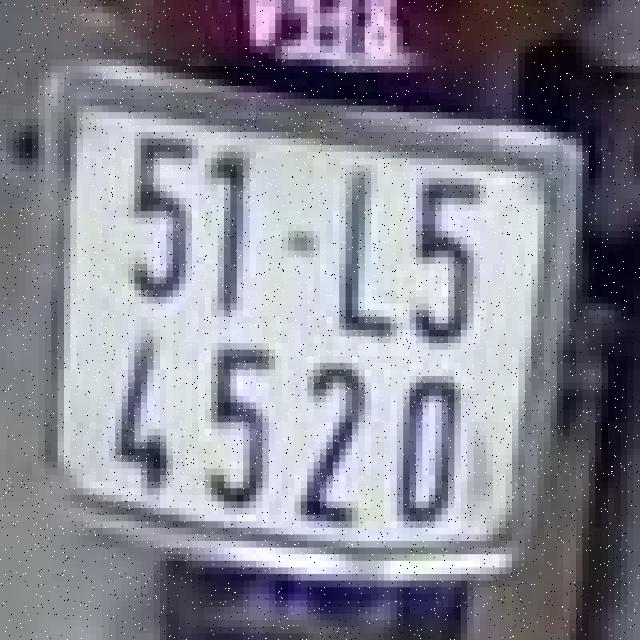0: (391, 366, 474, 538)
1: (212, 135, 262, 320)
2: (292, 360, 374, 538)
4: (102, 320, 192, 518)
5: (115, 132, 205, 310), (416, 165, 493, 356), (205, 340, 275, 518)
L: (326, 158, 409, 350)
